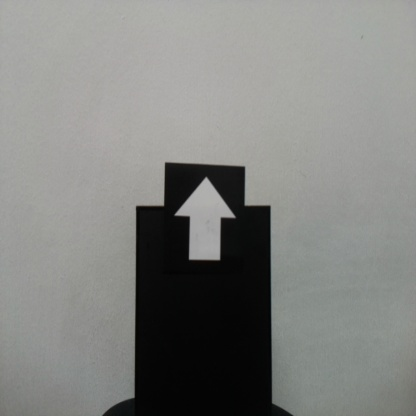id_1: (166, 164, 244, 284)
